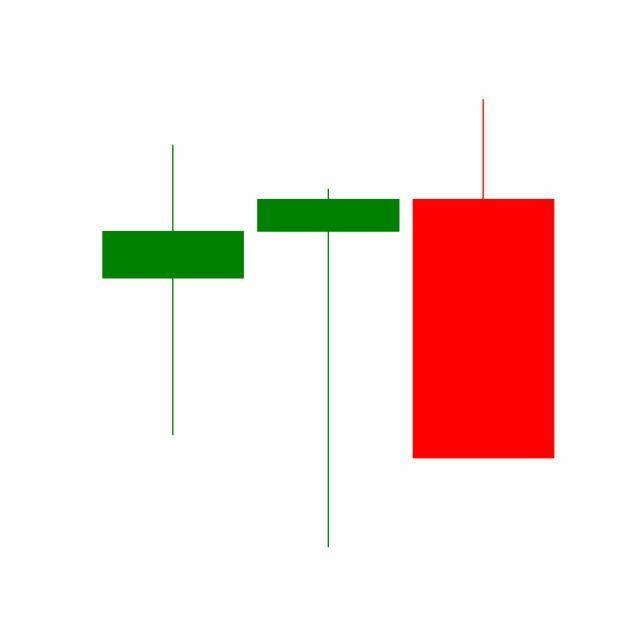Dragonfly Doji: (249, 184, 406, 552)
